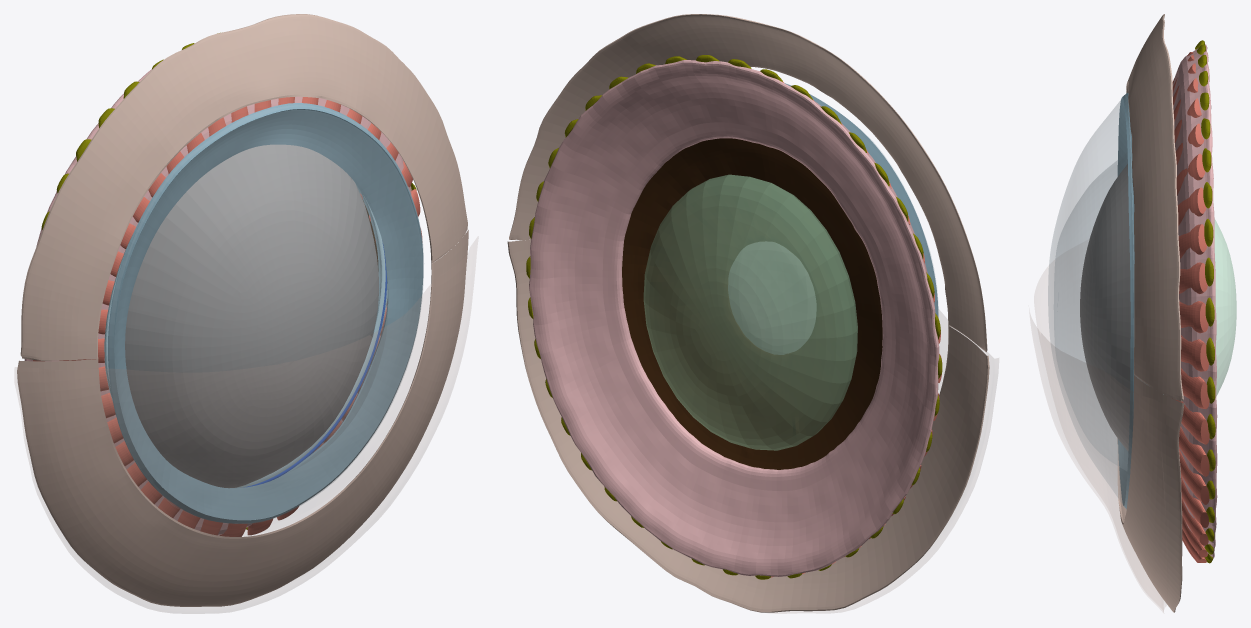
The model's file is female-a-organ-0ba.glb.
The picture shows the model from 3 angles, left to right: view 1: azimuth 30°, elevation 25°; view 2: azimuth 150°, elevation 25°; view 3: azimuth 270°, elevation 25°; orthographic projection. The views are drawn at different scales.
Visible parts, largest first — view 1: VH_F_cornea_L, VH_F_bulbar_conjunctiva_L, VH_F_palpebral_conjunctiva_of_left_lower_eyelid, VH_F_aqueous_humor_L, VH_F_corneo_scleral_junction_L, VH_F_ciliary_muscle_L, VH_F_trabecular_meshwork_L, VH_F_ciliary_body_L, VH_F_schlemms_canal_L, VH_F_ora_serrata_of_retina_L; view 2: VH_F_ciliary_body_L, VH_F_iris_L, VH_F_bulbar_conjunctiva_L, VH_F_lens_L, VH_F_aqueous_humor_L, VH_F_ora_serrata_of_retina_L, VH_F_palpebral_conjunctiva_of_left_lower_eyelid, VH_F_corneo_scleral_junction_L; view 3: VH_F_bulbar_conjunctiva_L, VH_F_cornea_L, VH_F_palpebral_conjunctiva_of_left_lower_eyelid, VH_F_aqueous_humor_L, VH_F_ciliary_muscle_L, VH_F_ciliary_body_L, VH_F_corneo_scleral_junction_L, VH_F_ora_serrata_of_retina_L, VH_F_lens_L.
Boxes of the visible parts, left/top/right/bottom form: VH_F_cornea_L: left=109, top=105, right=423, bottom=523; VH_F_bulbar_conjunctiva_L: left=17, top=14, right=468, bottom=606; VH_F_palpebral_conjunctiva_of_left_lower_eyelid: left=15, top=237, right=477, bottom=613; VH_F_aqueous_humor_L: left=125, top=144, right=378, bottom=487; VH_F_corneo_scleral_junction_L: left=108, top=103, right=423, bottom=523; VH_F_ciliary_muscle_L: left=33, top=97, right=422, bottom=536; VH_F_trabecular_meshwork_L: left=104, top=183, right=387, bottom=488; VH_F_ciliary_body_L: left=24, top=69, right=411, bottom=535; VH_F_schlemms_canal_L: left=246, top=243, right=387, bottom=487; VH_F_ora_serrata_of_retina_L: left=41, top=32, right=416, bottom=529; VH_F_ciliary_body_L: left=529, top=60, right=939, bottom=576; VH_F_iris_L: left=622, top=138, right=882, bottom=469; VH_F_bulbar_conjunctiva_L: left=507, top=14, right=989, bottom=612; VH_F_lens_L: left=643, top=174, right=857, bottom=450; VH_F_aqueous_humor_L: left=728, top=241, right=816, bottom=354; VH_F_ora_serrata_of_retina_L: left=526, top=55, right=942, bottom=579; VH_F_palpebral_conjunctiva_of_left_lower_eyelid: left=515, top=240, right=998, bottom=613; VH_F_corneo_scleral_junction_L: left=785, top=83, right=938, bottom=316; VH_F_bulbar_conjunctiva_L: left=1117, top=14, right=1184, bottom=612; VH_F_cornea_L: left=1048, top=94, right=1133, bottom=508; VH_F_palpebral_conjunctiva_of_left_lower_eyelid: left=1030, top=266, right=1167, bottom=612; VH_F_aqueous_humor_L: left=1080, top=164, right=1130, bottom=450; VH_F_ciliary_muscle_L: left=1172, top=52, right=1209, bottom=562; VH_F_ciliary_body_L: left=1172, top=44, right=1217, bottom=558; VH_F_corneo_scleral_junction_L: left=1117, top=92, right=1146, bottom=508; VH_F_ora_serrata_of_retina_L: left=1195, top=40, right=1215, bottom=563; VH_F_lens_L: left=1214, top=219, right=1236, bottom=395.
Size of the model in its own units: 0.0151 by 0.0178 by 0.00601.
